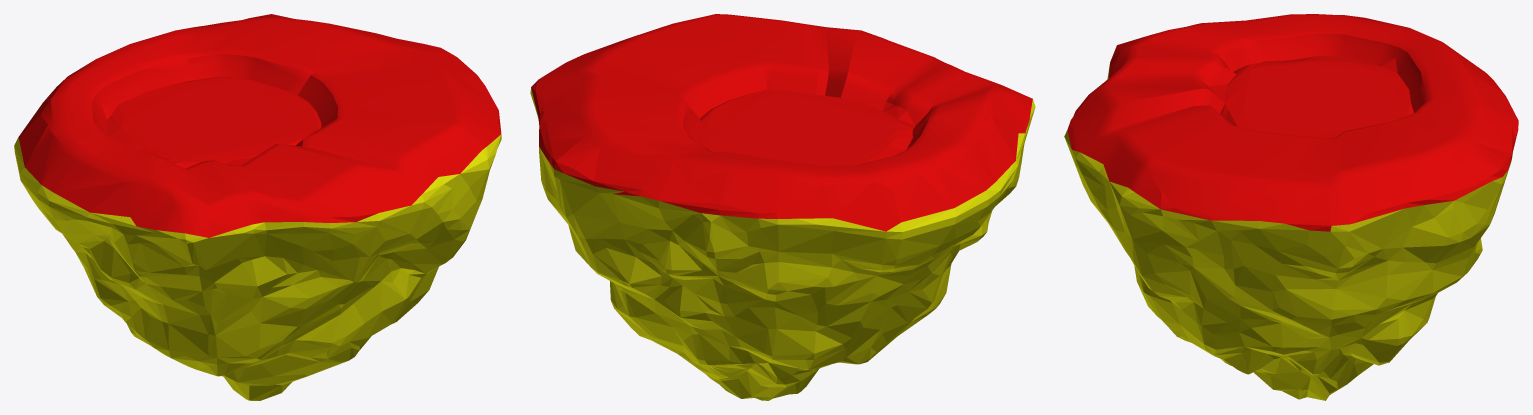
The model's file is sky island.fbx.
The picture shows the model from 3 angles, left to right: view 1: azimuth 30°, elevation 25°; view 2: azimuth 150°, elevation 25°; view 3: azimuth 270°, elevation 25°; orthographic projection.
Visible parts, largest first — view 1: polySurface1; view 2: polySurface1; view 3: polySurface1.
Boxes of the visible parts, x1,y1,x2,y2 form: polySurface1: (14, 14, 501, 400); polySurface1: (530, 14, 1035, 400); polySurface1: (1064, 14, 1518, 400).
Bounding box in the file's own units: 9.48 × 6.28 × 8.63.
